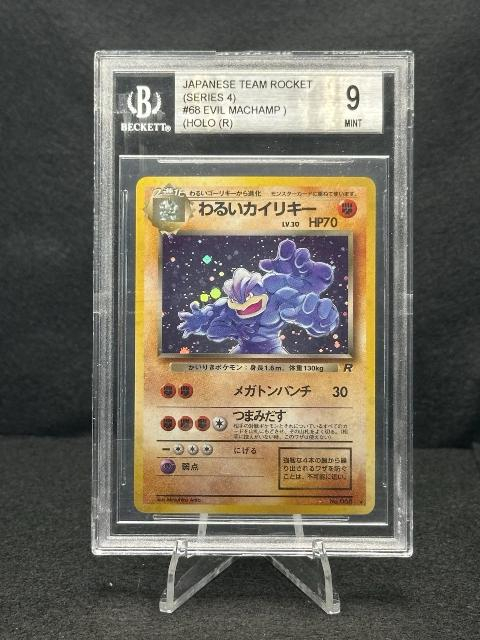Card: (131, 174, 378, 518)
Name: (195, 199, 319, 218)
